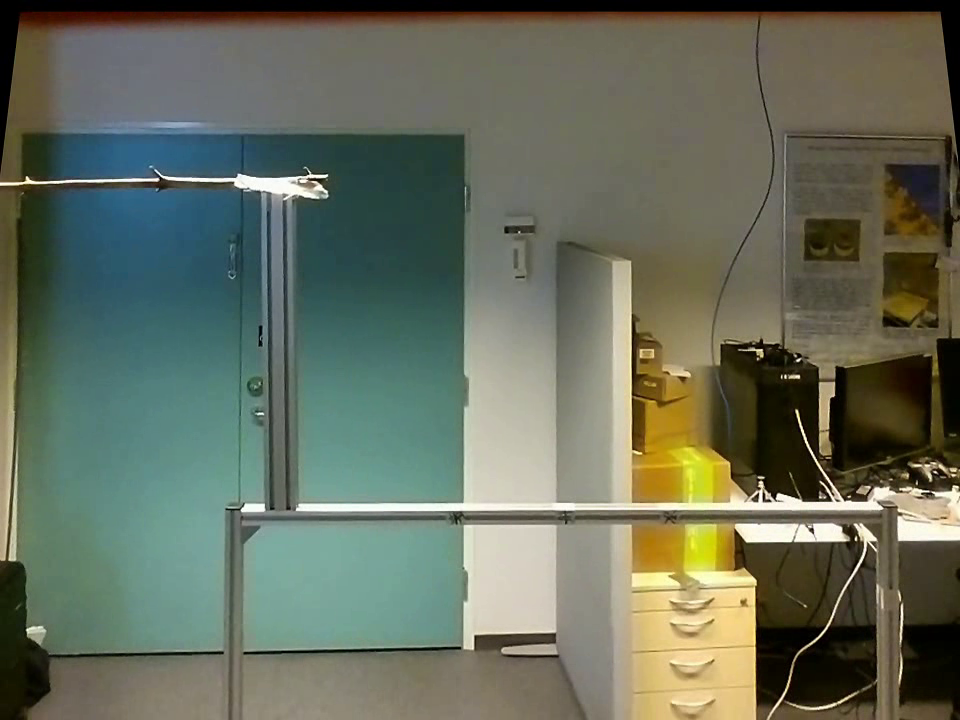aluminum_frame: (238, 497, 905, 525), (255, 192, 303, 507), (874, 498, 901, 719), (221, 499, 247, 717)
branch: (1, 155, 233, 205)
